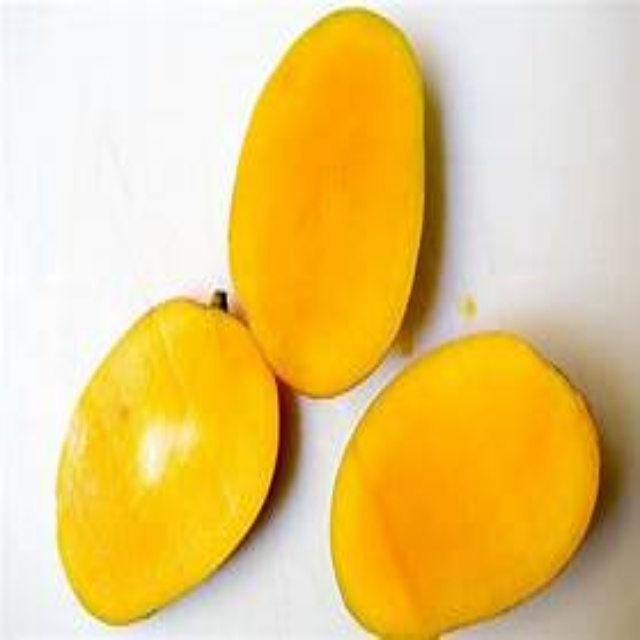mango: (328, 330, 599, 635), (60, 295, 274, 628), (240, 9, 422, 393)
